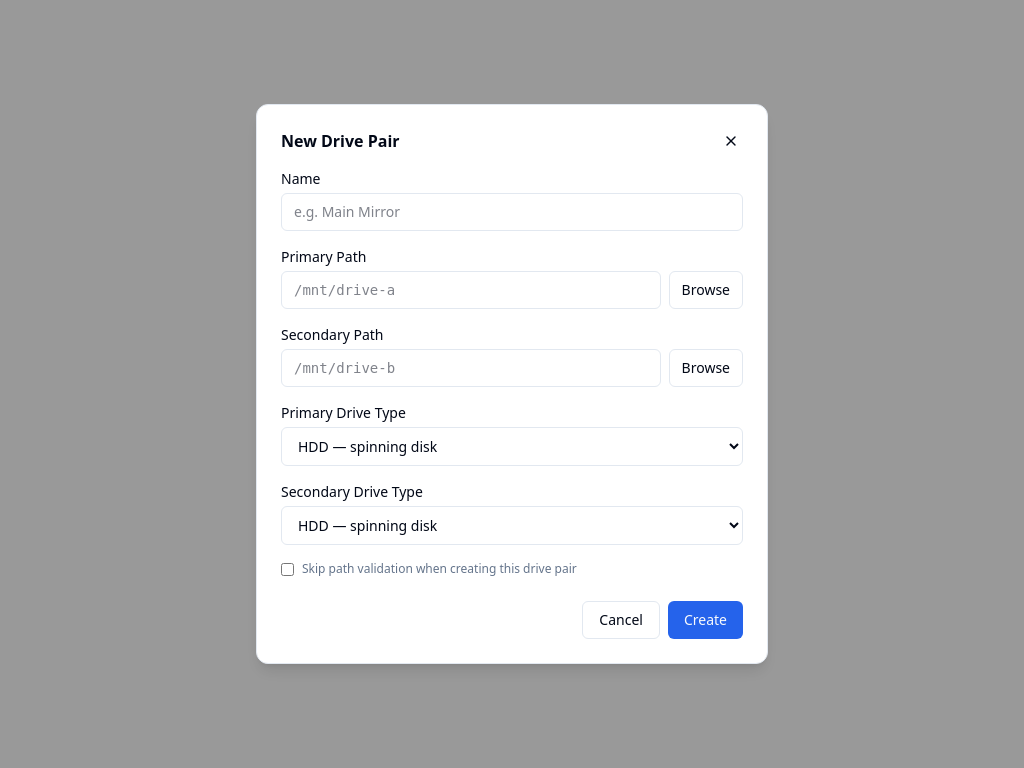
Test: DriveForm › shows the backend error when save fails
Step 1. Type "Mirror A" into the field with test id "drive-name-input" → (512, 212), box [281,193,743,231]
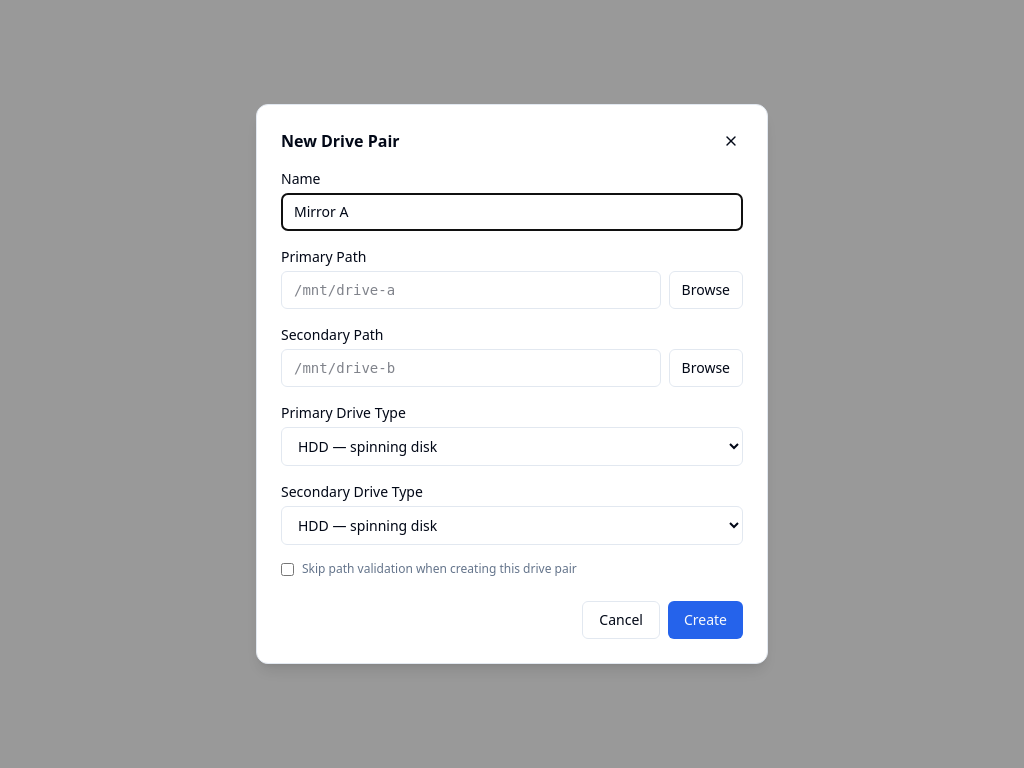
Step 2. Type "/mnt/primary" into the field with test id "drive-primary-path-input" → (471, 290), box [281,271,661,309]
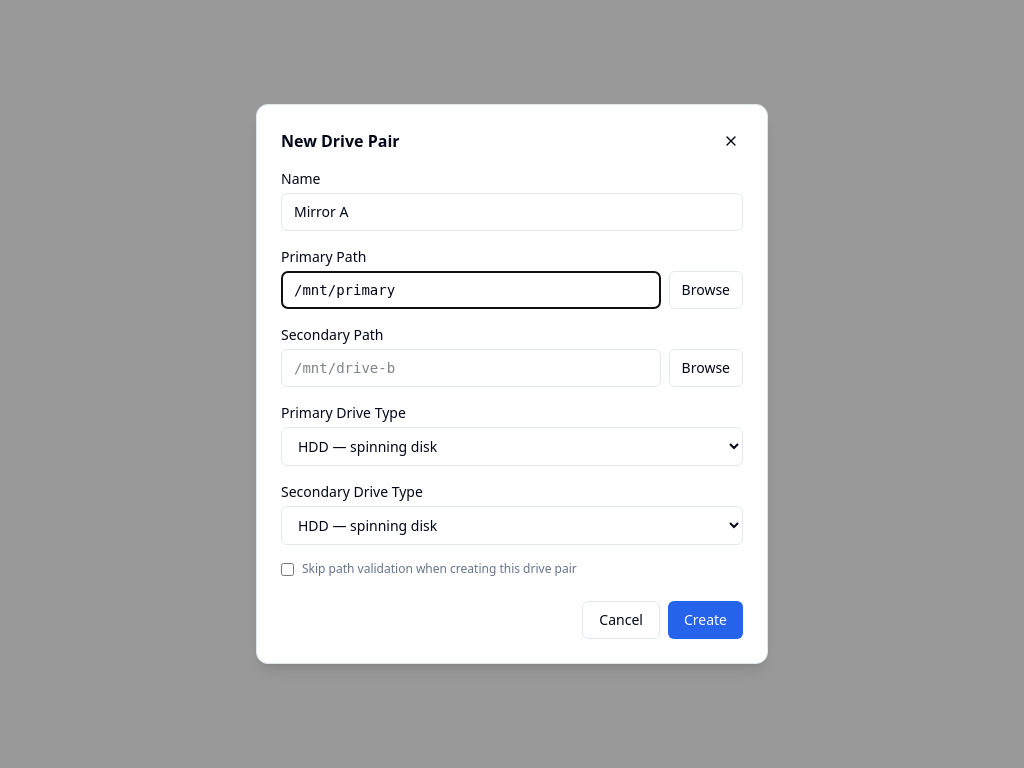
Step 3. Type "/mnt/secondary" into the field with test id "drive-secondary-path-input" → (471, 368), box [281,349,661,387]
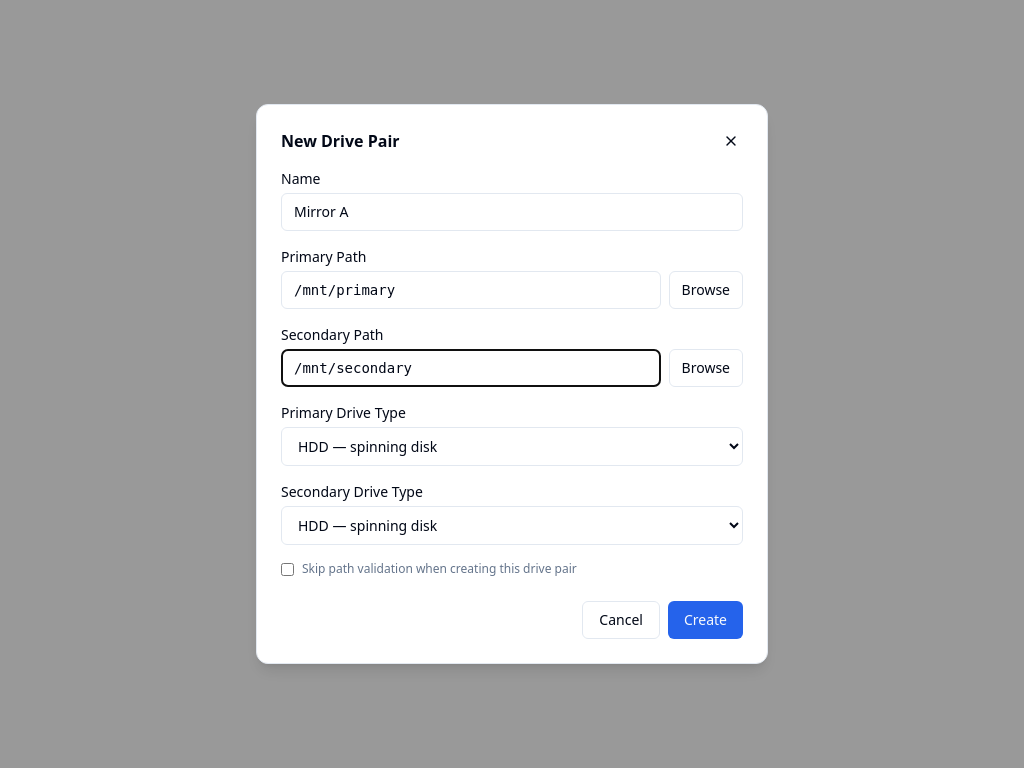
Step 4. Click the button "Create" → (705, 620), box [668,601,743,639]
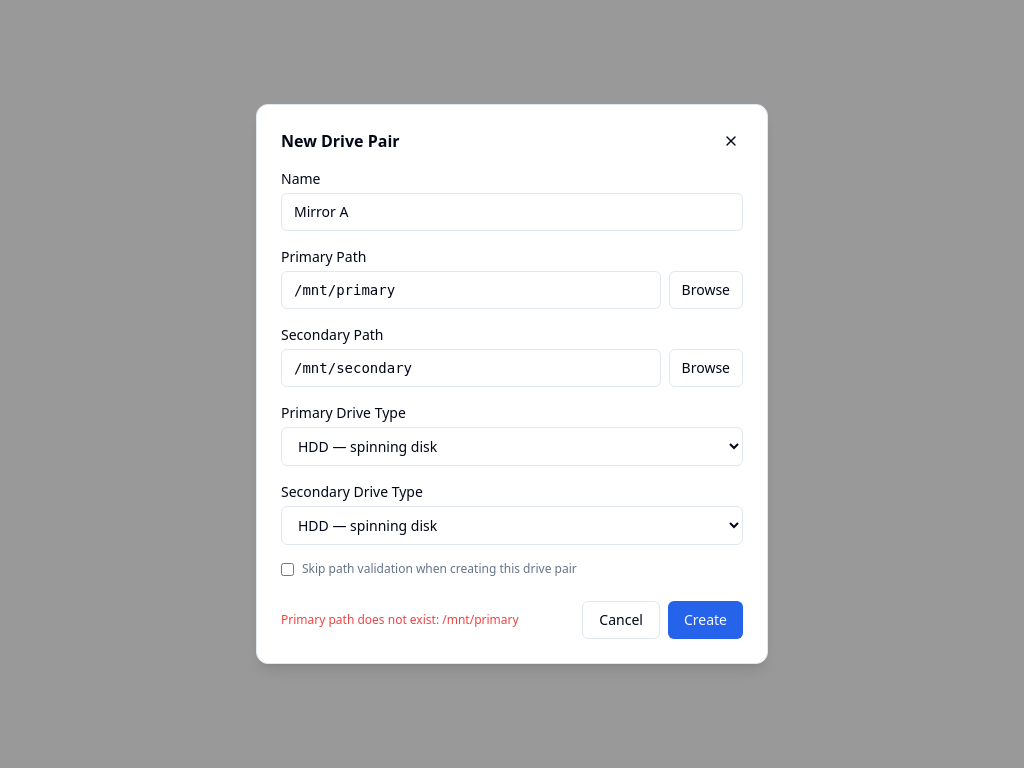
Result: the text "Primary path does not exist: /mnt/primary" is shown at [281,612,519,628]
